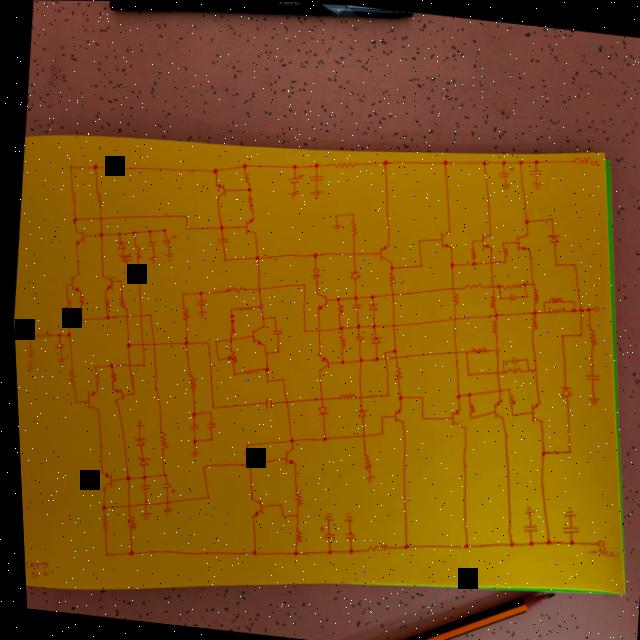capacitor: (280, 169, 304, 183), (494, 161, 512, 177), (312, 522, 330, 538), (158, 230, 176, 245), (154, 479, 171, 492), (578, 370, 596, 382), (555, 522, 574, 533), (336, 525, 351, 538), (525, 165, 541, 177), (257, 393, 269, 408), (304, 172, 321, 182), (517, 519, 532, 530), (192, 296, 204, 308), (345, 299, 358, 310), (49, 340, 62, 351), (265, 325, 279, 334), (133, 481, 144, 492), (142, 236, 154, 246), (348, 332, 362, 340), (237, 446, 248, 456), (199, 419, 211, 428), (504, 289, 513, 300), (214, 234, 224, 243), (184, 420, 193, 430), (505, 353, 515, 362)
crossover: (146, 338, 154, 346), (93, 213, 101, 221), (346, 247, 353, 256), (277, 397, 285, 404), (491, 384, 498, 391), (448, 347, 455, 354), (385, 289, 392, 296), (386, 321, 393, 328), (158, 497, 165, 504), (355, 430, 361, 437), (118, 501, 125, 507), (485, 281, 491, 287), (484, 257, 490, 263), (252, 283, 258, 289), (311, 324, 317, 330), (387, 353, 394, 358), (447, 315, 453, 320), (377, 354, 383, 359), (313, 394, 319, 399), (134, 340, 140, 345), (136, 499, 142, 504), (122, 361, 127, 366), (120, 312, 125, 316), (446, 284, 450, 288), (353, 392, 357, 396), (134, 311, 138, 315), (490, 368, 494, 372)
diode: (128, 452, 146, 468), (552, 382, 569, 398), (125, 432, 143, 446), (109, 236, 126, 249), (305, 264, 319, 279), (542, 230, 557, 243), (349, 405, 364, 418), (310, 403, 325, 416), (113, 250, 129, 261), (364, 333, 379, 344), (344, 267, 357, 279), (363, 300, 374, 314)
ground: (304, 186, 323, 197), (554, 503, 570, 515), (316, 508, 330, 521), (357, 471, 371, 483), (525, 178, 540, 189), (335, 509, 349, 520), (142, 252, 156, 263), (515, 502, 529, 513), (155, 503, 167, 515), (328, 218, 339, 231), (495, 179, 509, 189), (581, 394, 595, 404), (183, 447, 196, 457), (50, 354, 63, 364), (189, 308, 203, 317), (19, 361, 31, 371), (158, 251, 171, 260), (134, 509, 145, 519), (129, 416, 139, 427), (118, 266, 130, 275), (285, 189, 296, 198), (526, 306, 533, 313)
inductor: (543, 294, 561, 302)
junction: (477, 156, 487, 164), (88, 160, 96, 169), (533, 446, 542, 454), (395, 540, 404, 548), (560, 536, 569, 544), (213, 221, 222, 229), (126, 228, 136, 235), (208, 165, 216, 173), (456, 540, 464, 548), (237, 160, 245, 168), (438, 157, 447, 164), (374, 409, 381, 418), (460, 388, 469, 395), (340, 545, 349, 552), (134, 472, 143, 479), (285, 548, 293, 555), (519, 215, 526, 223), (120, 340, 127, 348), (319, 546, 327, 553), (378, 158, 386, 165), (244, 547, 252, 554), (307, 250, 315, 257), (391, 392, 399, 399), (99, 312, 107, 319), (178, 337, 185, 345), (287, 510, 295, 517), (185, 408, 192, 416), (239, 458, 247, 465), (332, 322, 340, 329), (529, 157, 537, 164), (497, 157, 505, 164), (571, 329, 579, 336), (465, 258, 473, 265), (353, 354, 360, 362), (270, 500, 278, 507), (329, 210, 337, 217), (347, 292, 355, 299), (155, 469, 163, 476), (118, 472, 126, 479), (103, 361, 111, 368), (142, 225, 150, 232), (157, 225, 165, 232), (65, 161, 72, 169), (243, 184, 251, 191), (121, 548, 128, 555), (316, 433, 323, 440), (501, 538, 508, 545), (444, 259, 451, 266), (560, 446, 567, 453), (68, 214, 75, 221), (310, 160, 317, 167), (253, 300, 260, 307), (288, 161, 295, 168), (96, 548, 103, 555), (538, 537, 545, 544), (198, 492, 205, 499), (195, 461, 202, 468), (413, 260, 420, 267), (250, 252, 257, 259), (176, 288, 183, 295), (258, 363, 265, 370), (573, 304, 580, 311), (566, 304, 573, 311), (519, 353, 526, 360), (386, 344, 393, 351), (367, 353, 374, 360), (350, 321, 357, 328), (366, 321, 373, 328), (207, 337, 214, 344), (345, 208, 352, 215), (364, 291, 371, 298), (330, 292, 337, 299), (259, 348, 266, 355), (259, 375, 266, 382), (204, 401, 211, 408), (96, 502, 103, 509), (142, 310, 149, 317), (126, 388, 133, 395), (86, 361, 93, 368), (112, 229, 119, 236), (193, 287, 200, 294), (185, 435, 191, 443), (513, 156, 520, 162), (334, 356, 341, 362), (226, 369, 233, 375), (200, 408, 208, 413), (413, 235, 419, 241), (549, 259, 555, 265), (581, 304, 587, 310), (450, 391, 456, 397), (458, 346, 464, 352), (274, 512, 280, 518), (211, 355, 217, 361), (297, 281, 303, 287), (297, 326, 303, 332), (135, 360, 141, 366), (61, 329, 67, 335), (51, 330, 57, 336), (60, 280, 66, 286), (74, 314, 81, 319), (545, 215, 551, 220), (538, 307, 543, 313), (528, 365, 533, 371), (464, 413, 470, 418), (461, 369, 466, 375), (489, 345, 495, 350), (380, 390, 385, 396), (283, 435, 288, 441), (255, 313, 261, 318), (22, 333, 28, 338), (95, 229, 100, 235), (414, 393, 419, 398), (203, 435, 208, 440), (555, 331, 560, 336), (180, 212, 185, 217), (68, 397, 73, 402), (275, 376, 280, 381), (568, 260, 573, 265), (415, 412, 420, 417), (566, 296, 571, 301), (466, 236, 471, 241), (527, 279, 532, 284), (491, 281, 496, 286), (494, 292, 499, 297), (378, 347, 383, 352), (267, 312, 272, 317), (271, 348, 276, 353), (200, 339, 205, 344), (113, 277, 118, 282), (495, 357, 500, 361), (374, 429, 379, 433), (218, 256, 222, 260), (537, 298, 541, 302), (490, 311, 494, 315), (522, 365, 526, 369), (496, 368, 500, 372), (505, 410, 509, 414), (502, 384, 506, 388), (496, 238, 500, 242), (518, 279, 522, 283), (519, 292, 523, 296), (385, 263, 389, 267), (239, 441, 243, 445), (181, 225, 185, 229), (498, 258, 503, 261)
resistor: (150, 425, 167, 450), (179, 369, 195, 391), (117, 512, 134, 531), (328, 158, 355, 169), (359, 539, 383, 551), (60, 366, 75, 385), (219, 281, 242, 293), (284, 486, 298, 505), (127, 243, 142, 260), (355, 449, 367, 470), (387, 361, 400, 380), (581, 327, 594, 346), (220, 347, 234, 364), (240, 192, 253, 210), (485, 316, 497, 334), (459, 278, 480, 288), (285, 527, 298, 543), (90, 188, 102, 205), (524, 311, 535, 329), (18, 342, 31, 357), (64, 189, 76, 205), (331, 389, 350, 399), (111, 295, 125, 308), (176, 304, 186, 322), (30, 330, 48, 340), (446, 288, 457, 304), (499, 279, 518, 288), (464, 343, 481, 353), (501, 363, 518, 373), (382, 269, 393, 284), (59, 295, 70, 310), (345, 220, 355, 236), (501, 391, 512, 405), (72, 292, 83, 306), (329, 300, 340, 313), (222, 322, 233, 335), (237, 169, 248, 182), (121, 371, 131, 385), (94, 513, 102, 530), (87, 369, 95, 386), (333, 332, 342, 347), (236, 364, 251, 373), (484, 293, 493, 308), (546, 305, 561, 314), (103, 370, 113, 383), (237, 303, 250, 312), (496, 244, 506, 255), (98, 295, 107, 307)
terminal: (588, 537, 601, 546), (569, 153, 580, 163), (587, 302, 598, 311), (223, 310, 231, 321), (13, 330, 22, 339)
text: (581, 544, 611, 556), (578, 152, 597, 164)
transistor: (239, 493, 262, 519), (521, 394, 541, 423), (89, 466, 111, 492), (372, 237, 393, 261), (443, 404, 463, 428), (308, 287, 328, 311), (244, 320, 263, 344), (473, 229, 493, 251), (509, 229, 529, 251), (79, 387, 96, 410), (65, 269, 81, 293), (309, 351, 328, 371), (435, 226, 452, 248), (485, 395, 501, 418), (95, 270, 112, 291), (64, 226, 83, 244), (239, 214, 256, 234), (208, 179, 226, 197), (103, 384, 120, 403), (276, 447, 292, 466), (386, 405, 401, 424)
